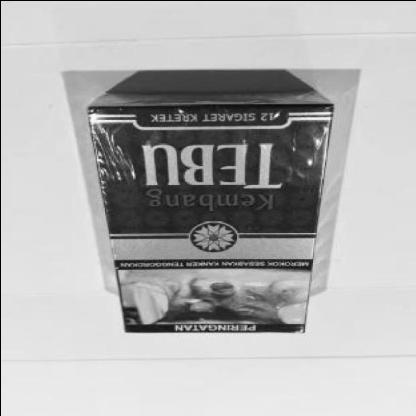objects: (85, 90, 333, 333)
